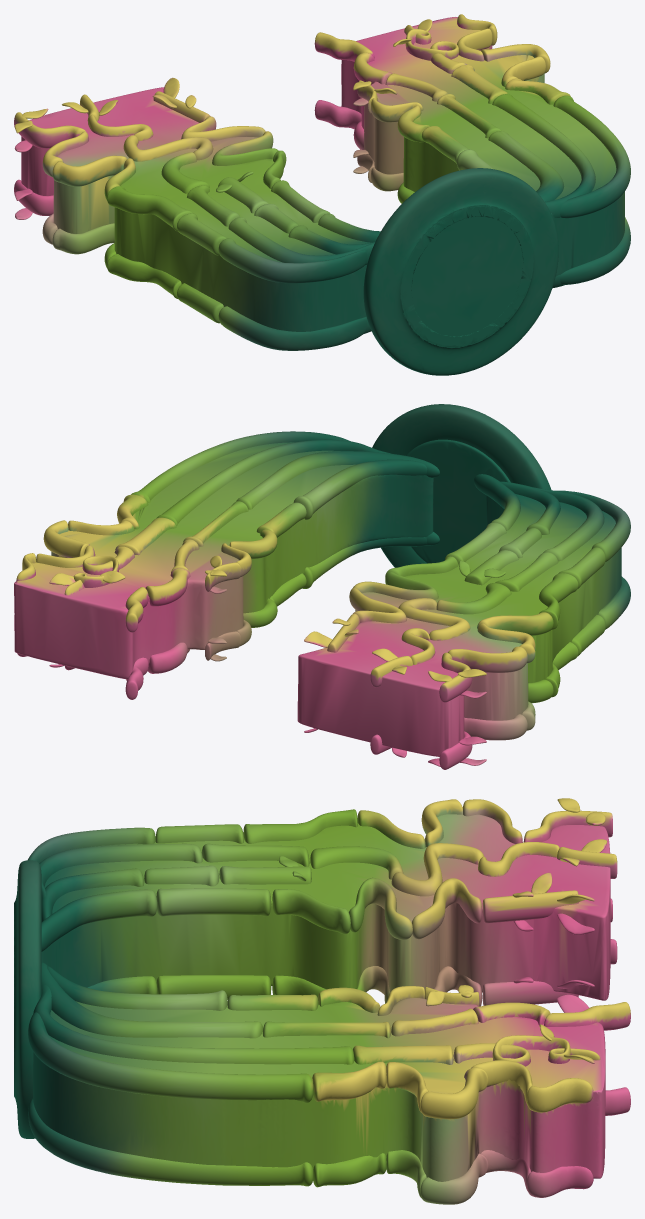
3 views of the same model, one above another, from view 1: azimuth 30°, elevation 25°; view 2: azimuth 150°, elevation 25°; view 3: azimuth 270°, elevation 25° (orthographic). The views are drawn at different scales.
Parts seen in each view (by area): view 1: LOD 3_11715679123741618527_7772d8143698c4b469892684d4d44774; view 2: LOD 3_11715679123741618527_7772d8143698c4b469892684d4d44774; view 3: LOD 3_11715679123741618527_7772d8143698c4b469892684d4d44774.
Boxes of the visible parts, x1=… form: LOD 3_11715679123741618527_7772d8143698c4b469892684d4d44774: x1=14, y1=14, x2=630, y2=375; LOD 3_11715679123741618527_7772d8143698c4b469892684d4d44774: x1=14, y1=404, x2=630, y2=769; LOD 3_11715679123741618527_7772d8143698c4b469892684d4d44774: x1=14, y1=798, x2=630, y2=1204.
Size of the model in its own units: 14.65 by 5.71 by 12.63.
